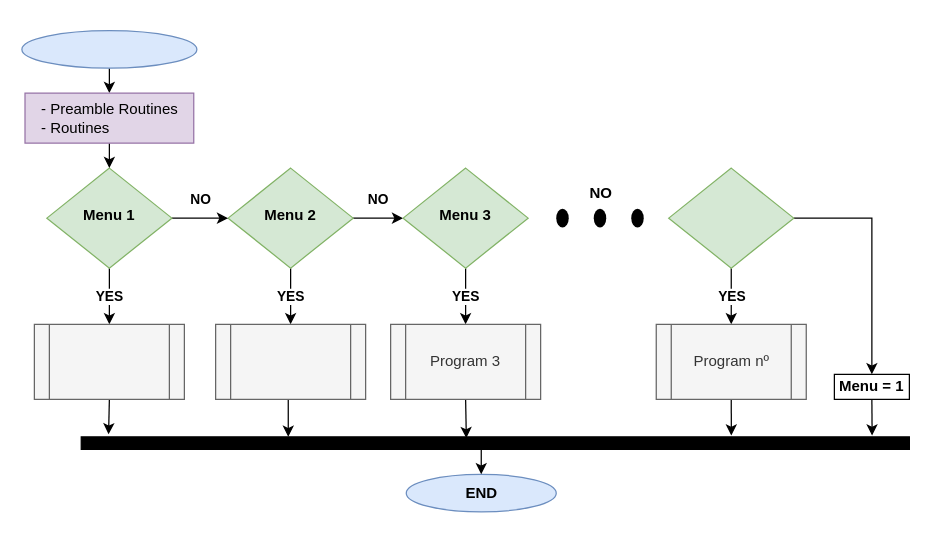
Image size: 931x534. Some labels were removed from this diagram. The centre of each missing label's shape, as x and y in pixels:
Menu nº: point 731,217
Program 1: point 108,361
Program 2: point 290,361
START: point 109,48
